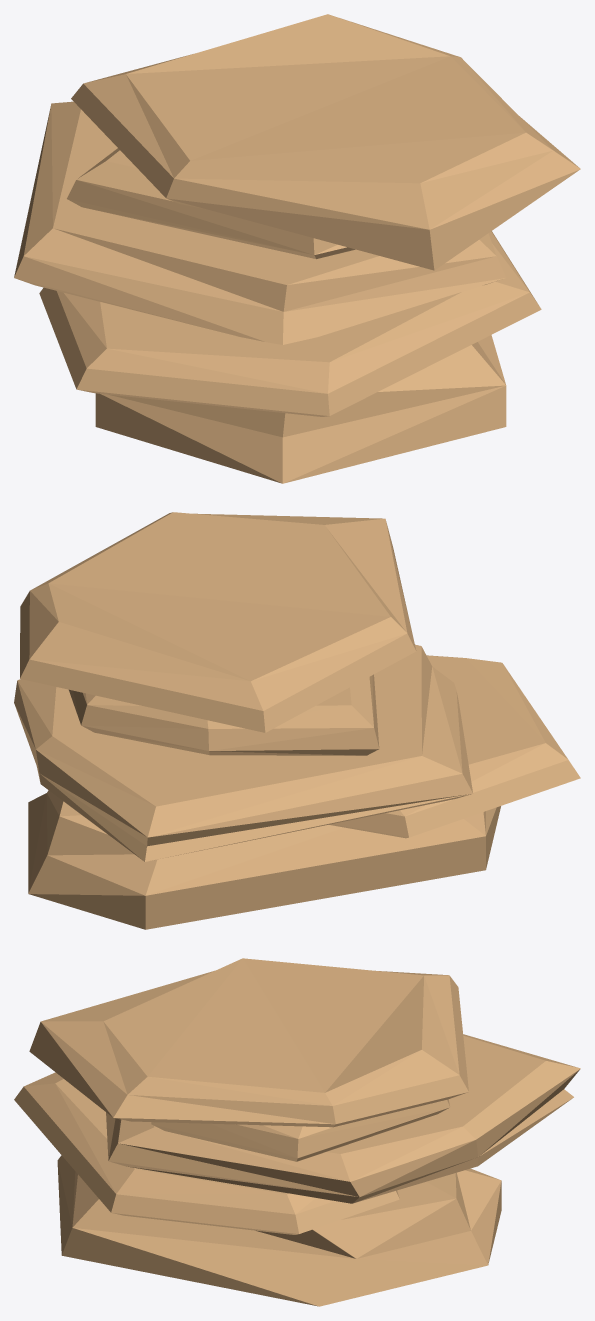
File: Rock_20.fbx
The picture shows the model from 3 angles, top to bottom: view 1: azimuth 30°, elevation 25°; view 2: azimuth 150°, elevation 25°; view 3: azimuth 270°, elevation 25°; orthographic projection. The views are drawn at different scales.
Parts seen in each view (by area): view 1: Rock_20; view 2: Rock_20; view 3: Rock_20.
Boxes of the visible parts, x1,y1,x2,y2 form: Rock_20: (14,14,580,483); Rock_20: (14,512,580,929); Rock_20: (14,958,580,1306).
Bounding box in the file's own units: 348 × 405 × 172.
